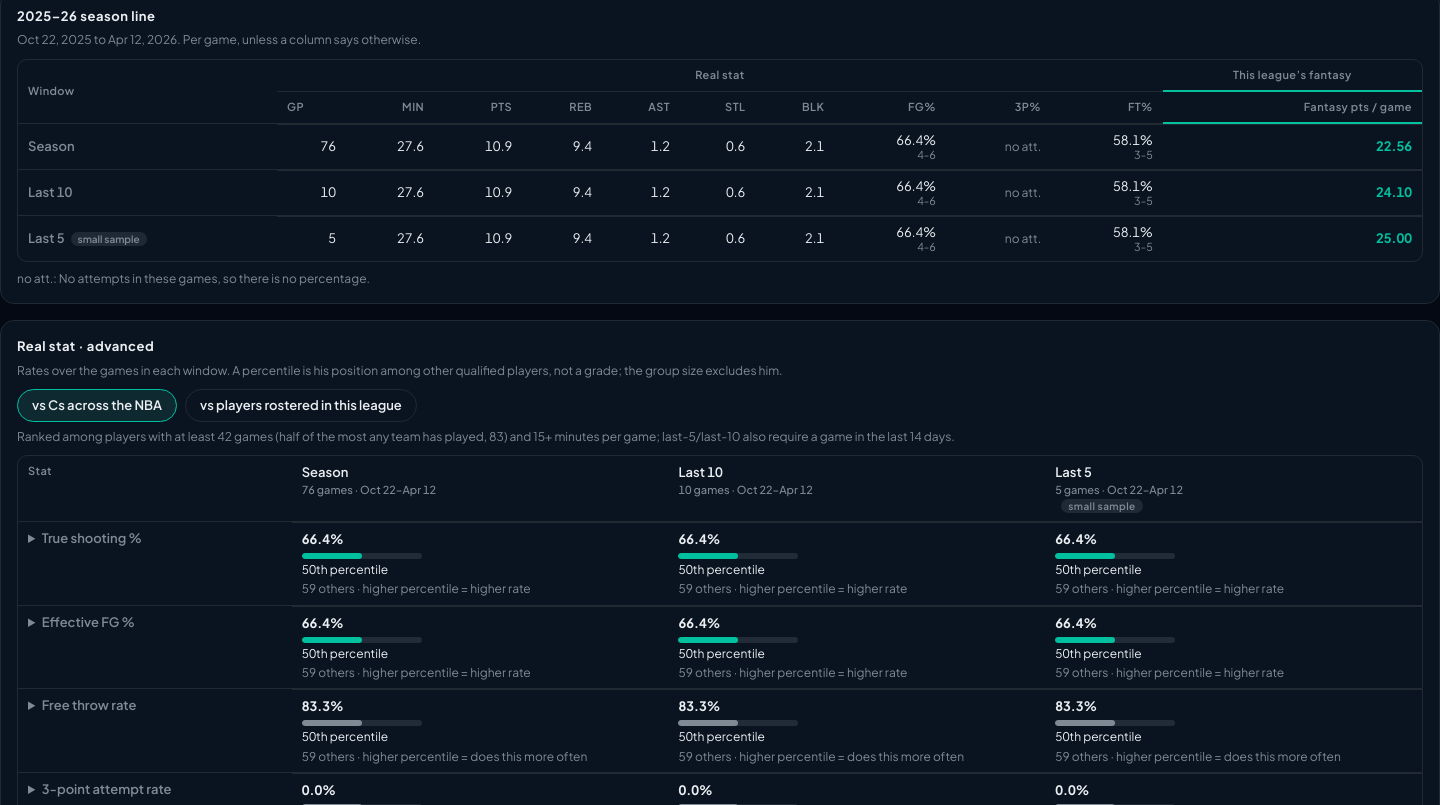
Test: PlayerPage advanced view › says the rostered group is last season’s rosters when the page fell back
(page scrolled)
Click the button "vs players rostered in this league" at point(301, 406), box [185,389,417,422]
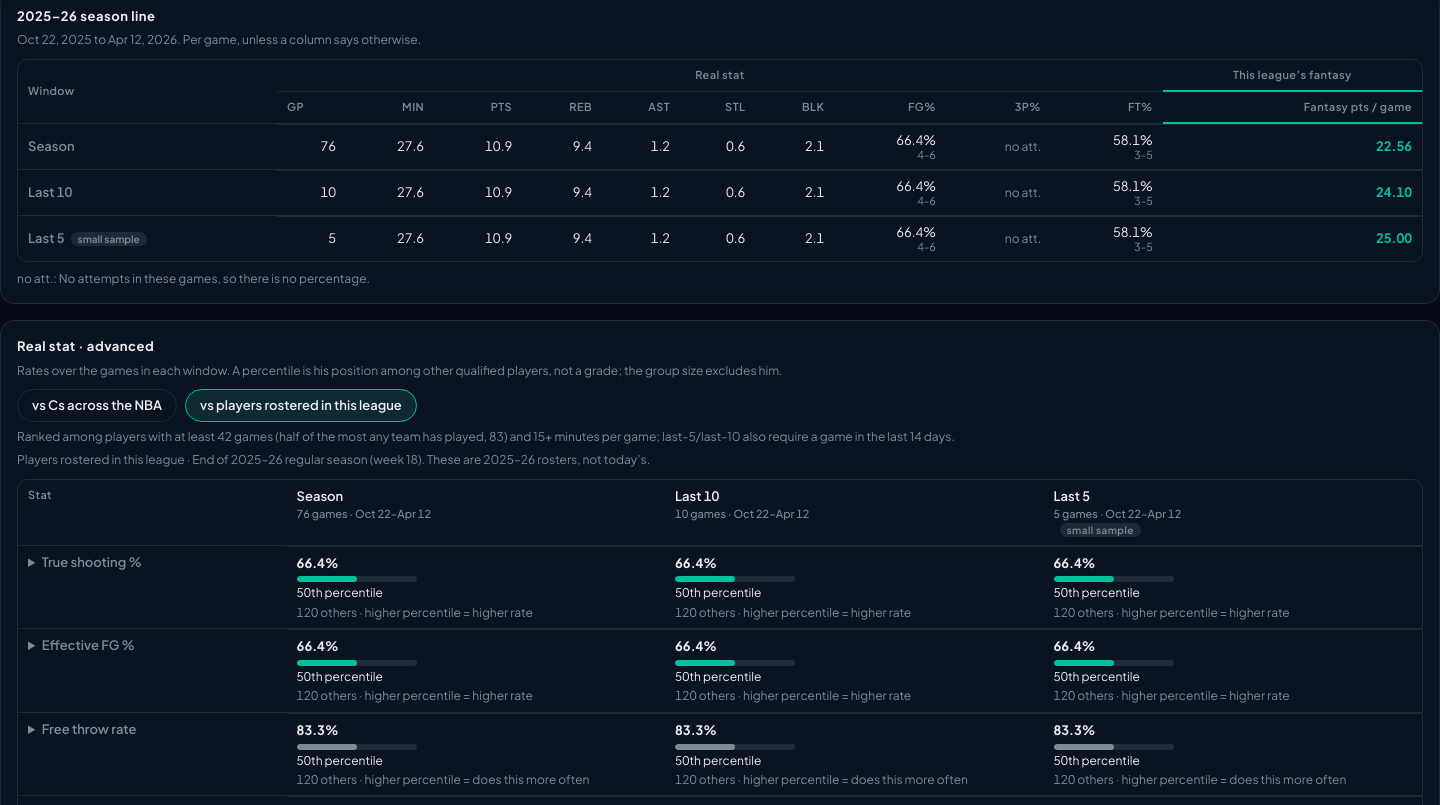
expect the text "These are 2025–26 rosters, not today’s." is shown: met, box [17,452,650,468]
